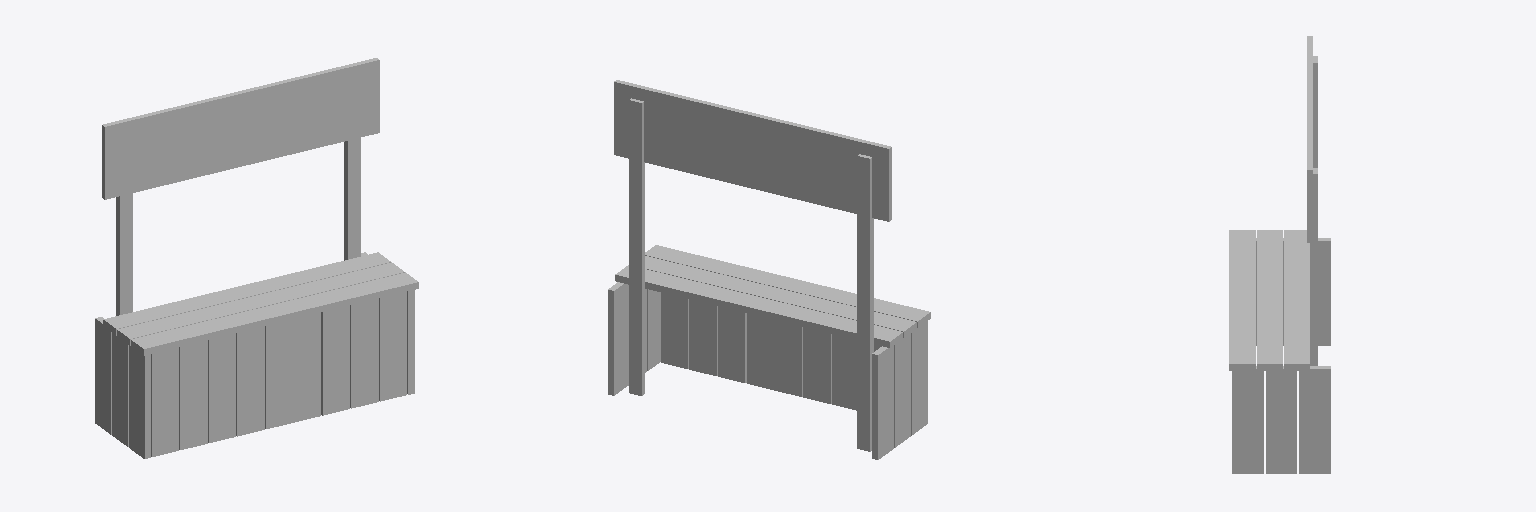
File: ToolShopBLOCKOUT.obj
3 views of the same model, side by side, from view 1: azimuth 30°, elevation 25°; view 2: azimuth 150°, elevation 25°; view 3: azimuth 270°, elevation 25° (orthographic).
Visible parts, largest first — view 1: ToolShopBLOCKOUT; view 2: ToolShopBLOCKOUT; view 3: ToolShopBLOCKOUT.
Part boxes in pixels (bbox=[...]): ToolShopBLOCKOUT: bbox=[95, 58, 418, 458]; ToolShopBLOCKOUT: bbox=[608, 80, 930, 459]; ToolShopBLOCKOUT: bbox=[1229, 36, 1330, 473].
Size of the model in its own units: 2.74 by 2.91 by 0.8769.